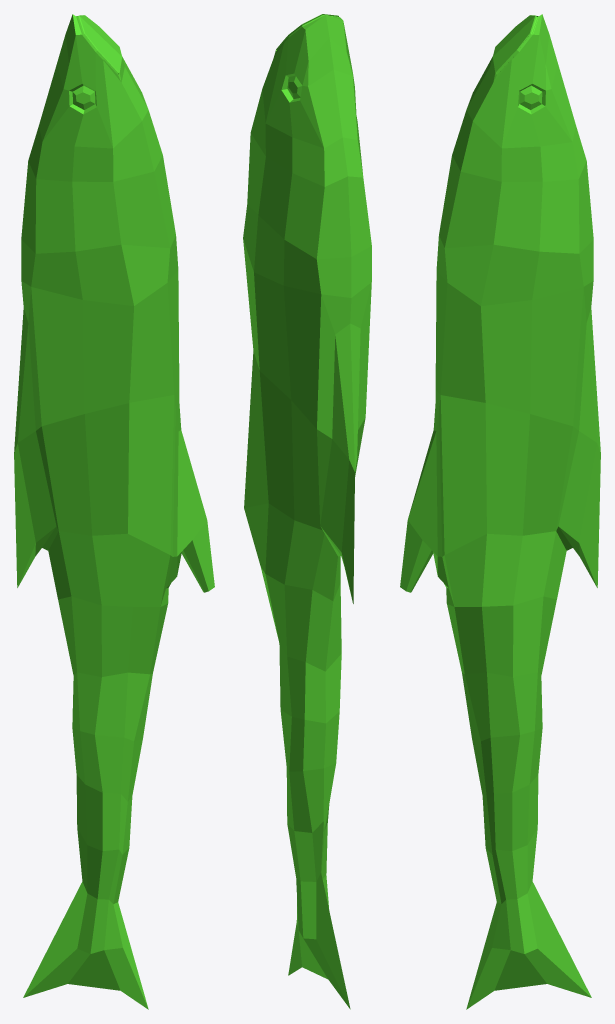
File: Fish.fbx
3 views of the same model, side by side, from view 1: azimuth 90°, elevation 25°; view 2: azimuth 210°, elevation 25°; view 3: azimuth 270°, elevation 25° (orthographic).
Visible parts, largest first — view 1: FishV3; view 2: FishV3; view 3: FishV3.
Boxes of the visible parts, x1,y1,x2,y2 form: FishV3: (14, 14, 214, 1009); FishV3: (243, 14, 371, 1009); FishV3: (400, 14, 600, 1009).
Bounding box in the file's own units: 7.98 × 86.8 × 15.87.
